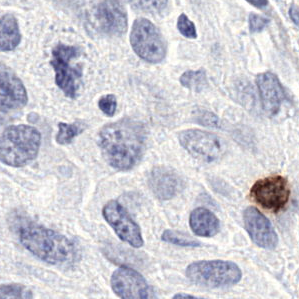Lymphocyte: (249, 175, 291, 210)
